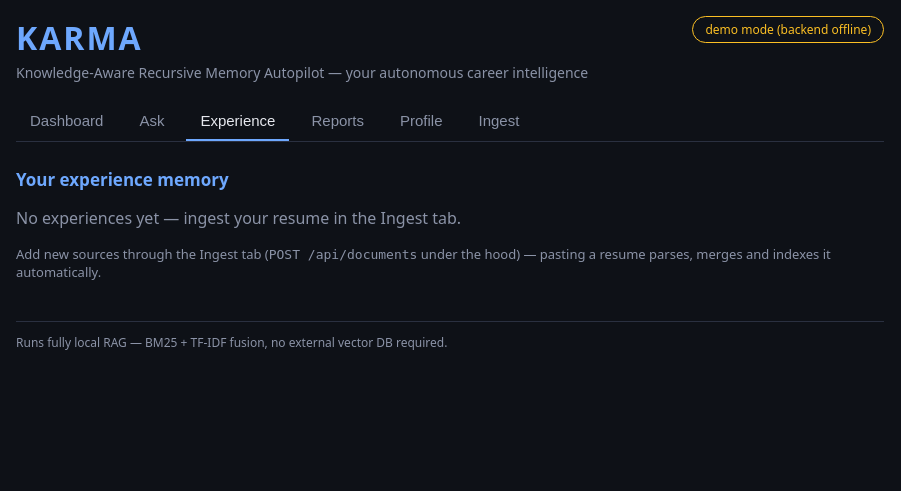
Test: Reports panel › renders skill-gap reports with observed/missing chips
The width and height of the screenshot is (901, 491).
Click the button with test id "tab-Reports": point(338, 122) top-left (298, 102), bottom-right (378, 141)
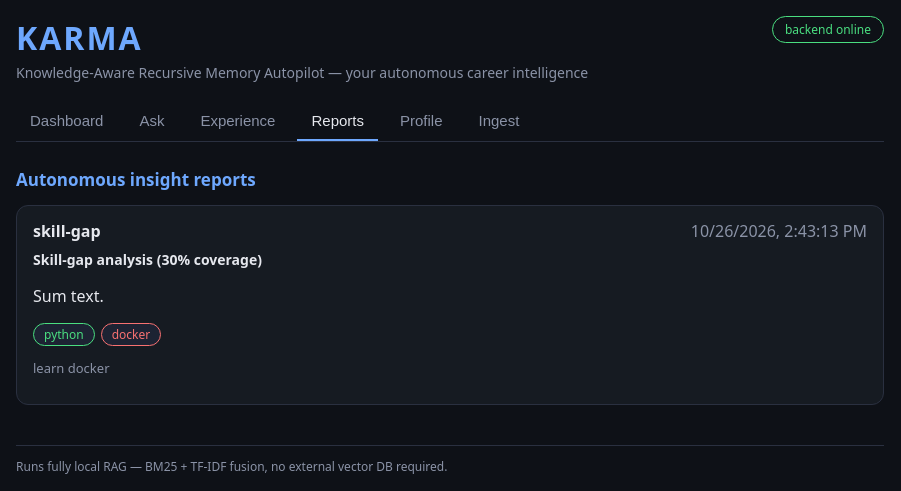
Expected: the number of elements with test id "report-card" is 1, top-left (16, 205), bottom-right (884, 405)
Expected: the heading "Skill-gap analysis (30% coverage)" is shown, top-left (33, 250), bottom-right (262, 269)
Expected: the text "docker" is shown, top-left (101, 323), bottom-right (161, 346)
